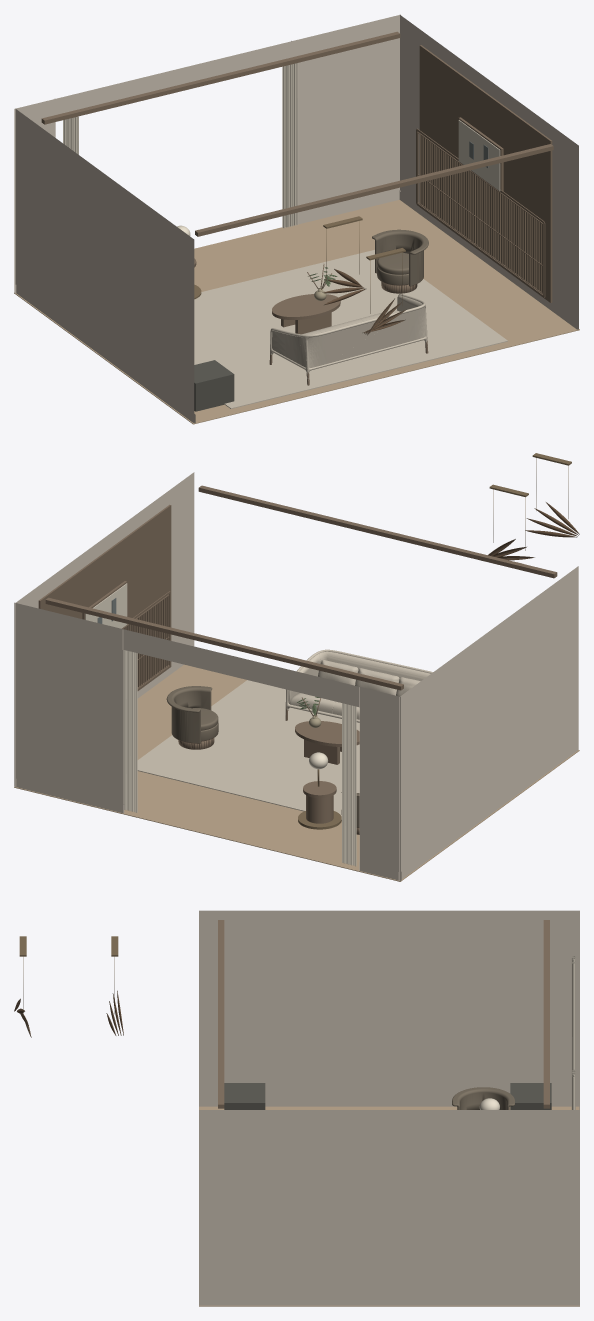
File: great-3.glb
The picture shows the model from 3 angles, top to bottom: view 1: azimuth 30°, elevation 25°; view 2: azimuth 150°, elevation 25°; view 3: azimuth 270°, elevation 25°; orthographic projection. The views are drawn at different scales.
Parts seen in each view (by area): view 1: DESIGN | great removable wall finish, DESIGN | Great room primary ground, DESIGN | great floor finish, DESIGN | Retreat timber wall plane, DESIGN | Kumiko | Great room low craft datum, DESIGN | Great room sofa facing conversation, DESIGN | Required Bellustar swivel chair one, DESIGN | Retreat concealed light edge.001, DESIGN | Retreat concealed light edge, DESIGN | Great room soft window edge.001, DESIGN | Great room low stone display, DESIGN | Textile artwork.001 (+3 smaller); view 2: DESIGN | great removable wall finish, DESIGN | great floor finish, DESIGN | Great room primary ground, DESIGN | Retreat timber wall plane, DESIGN | Great room sofa facing conversation, DESIGN | Retreat concealed light edge, DESIGN | Retreat concealed light edge.001, DESIGN | Required Bellustar swivel chair one, DESIGN | Great room soft window edge, DESIGN | Great room soft window edge.001, DESIGN | Kumiko | Great room low craft datum, DESIGN | Great room conversation table top (+3 smaller); view 3: DESIGN | great removable wall finish, DESIGN | great floor finish, DESIGN | Retreat concealed light edge, DESIGN | Retreat concealed light edge.001, DESIGN | Great room low stone display, DESIGN | Required Bellustar swivel chair two, DESIGN | Great room low stone display.001, DESIGN | Great room soft window edge.
Part boxes in pixels (box(x1,y1,x2,y2)): DESIGN | great removable wall finish: box(14, 14, 578, 423); DESIGN | Great room primary ground: box(194, 250, 507, 408); DESIGN | great floor finish: box(14, 200, 579, 424); DESIGN | Retreat timber wall plane: box(419, 45, 552, 302); DESIGN | Kumiko | Great room low craft datum: box(416, 128, 545, 297); DESIGN | Great room sofa facing conversation: box(269, 293, 428, 385); DESIGN | Required Bellustar swivel chair one: box(372, 229, 428, 293); DESIGN | Retreat concealed light edge.001: box(41, 31, 400, 124); DESIGN | Retreat concealed light edge: box(195, 144, 553, 236); DESIGN | Great room soft window edge.001: box(282, 63, 298, 228); DESIGN | Great room low stone display: box(194, 360, 234, 411); DESIGN | Textile artwork.001: box(458, 120, 500, 190); DESIGN | great removable wall finish: box(14, 472, 578, 880); DESIGN | great floor finish: box(14, 664, 579, 881); DESIGN | Great room primary ground: box(137, 680, 359, 820); DESIGN | Retreat timber wall plane: box(38, 504, 171, 687); DESIGN | Great room sofa facing conversation: box(285, 649, 432, 722); DESIGN | Retreat concealed light edge: box(198, 485, 557, 578); DESIGN | Retreat concealed light edge.001: box(45, 597, 403, 690); DESIGN | Required Bellustar swivel chair one: box(166, 686, 218, 749); DESIGN | Great room soft window edge: box(342, 703, 356, 866); DESIGN | Great room soft window edge.001: box(123, 650, 137, 812); DESIGN | Kumiko | Great room low craft datum: box(122, 591, 170, 690); DESIGN | Great room conversation table top: box(295, 721, 359, 746); DESIGN | great removable wall finish: box(199, 910, 579, 1305); DESIGN | great floor finish: box(199, 1106, 579, 1306); DESIGN | Retreat concealed light edge: box(218, 920, 224, 1108); DESIGN | Retreat concealed light edge.001: box(543, 920, 549, 1108); DESIGN | Great room low stone display: box(224, 1083, 265, 1109); DESIGN | Required Bellustar swivel chair two: box(452, 1087, 514, 1109); DESIGN | Great room low stone display.001: box(510, 1083, 551, 1109); DESIGN | Great room soft window edge: box(571, 956, 575, 1070).
Bounding box in the file's own units: 6 × 3.04 × 7.16.
